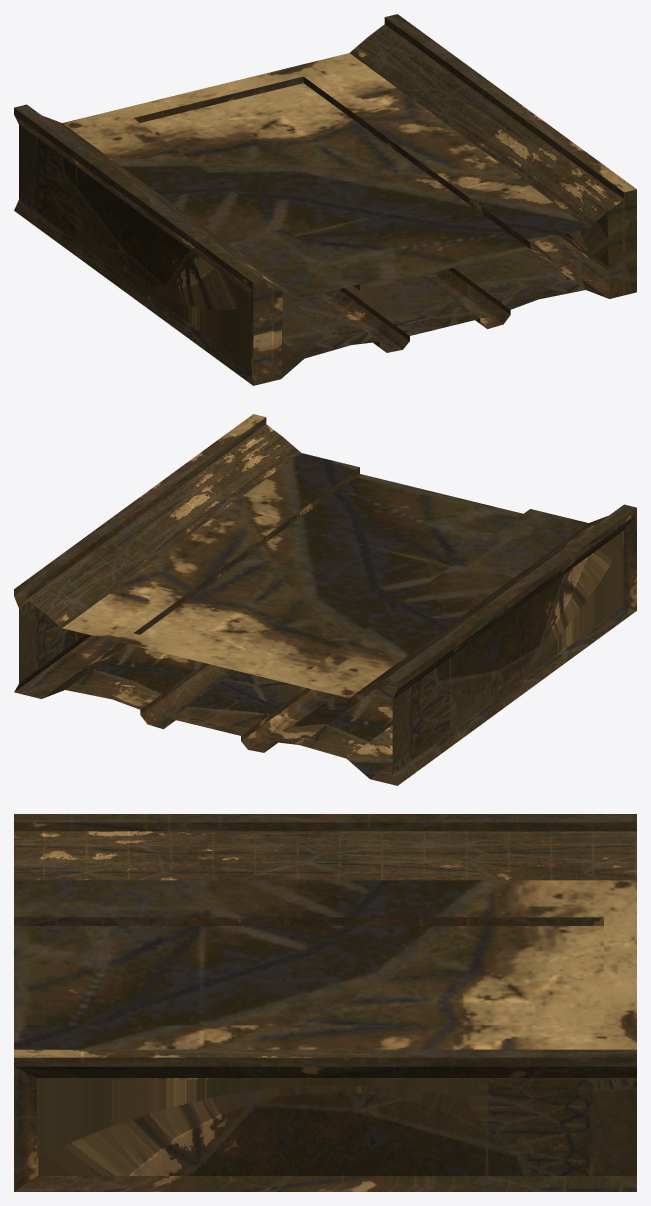
The model's file is platformPrefabStraightHalfRight.fbx.
The picture shows the model from 3 angles, top to bottom: view 1: azimuth 30°, elevation 25°; view 2: azimuth 150°, elevation 25°; view 3: azimuth 270°, elevation 25°; orthographic projection. The views are drawn at different scales.
Parts seen in each view (by area): view 1: platformPrefabStraight; view 2: platformPrefabStraight; view 3: platformPrefabStraight.
Boxes of the visible parts, x1,y1,x2,y2 form: platformPrefabStraight: (14, 14, 636, 385); platformPrefabStraight: (14, 414, 636, 785); platformPrefabStraight: (14, 814, 636, 1191).
Bounding box in the file's own units: 186 × 47.89 × 201.
